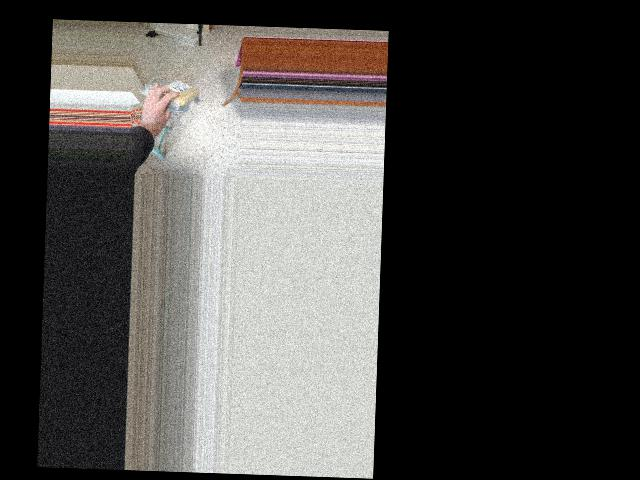cheese: (155, 78, 201, 109)
